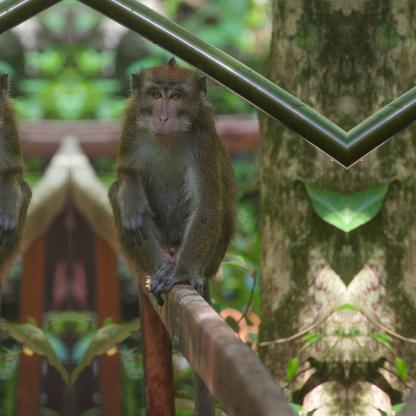Monkey: (110, 63, 223, 272), (0, 62, 29, 272)
